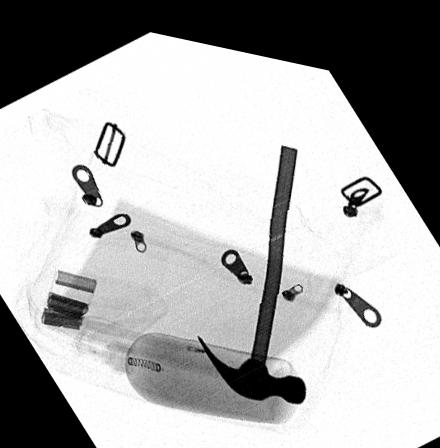Hammer: (192, 130, 306, 392)
